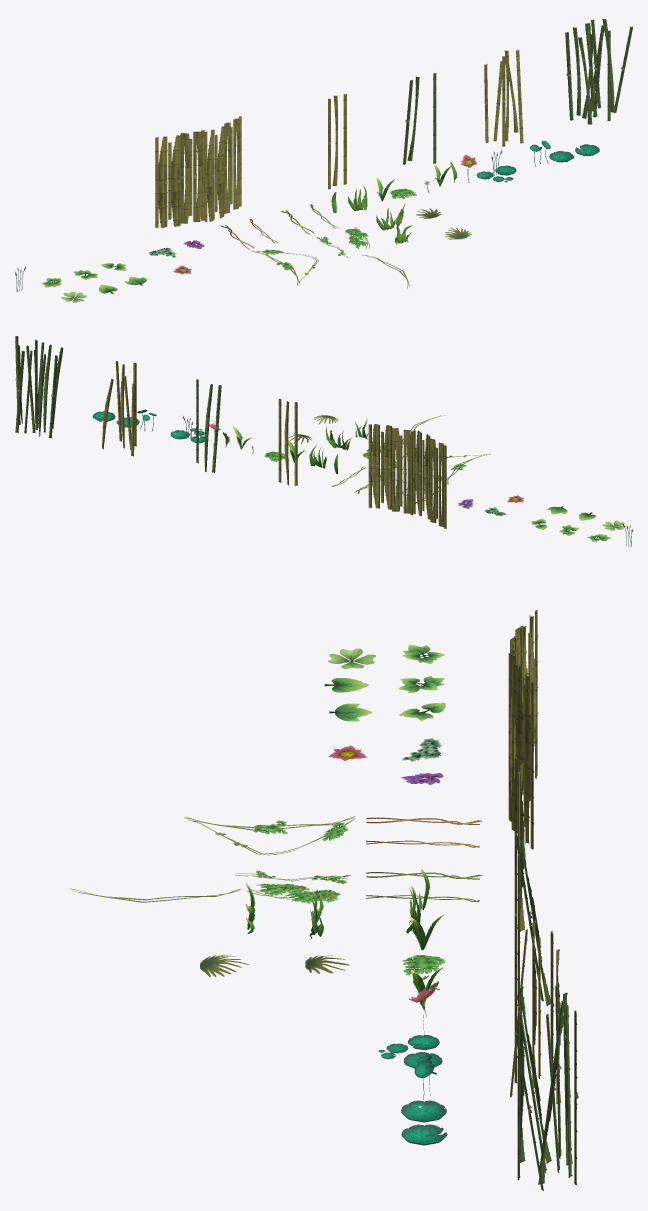
Rendered from 01_Vegetation.fbx.
The picture shows the model from 3 angles, top to bottom: view 1: azimuth 30°, elevation 25°; view 2: azimuth 150°, elevation 25°; view 3: azimuth 270°, elevation 25°; orthographic projection. The views are drawn at different scales.
Visible parts, largest first — view 1: bamboo_orange03.001, bamboostack, bamboo_orangestack, lilypad_group01; view 2: bamboo_orange03.001, bamboostack, bamboo_orangestack, lilypad_group01, bamboo01, bamboo02, bamboo_orange01, bamboo_orange03, bamboo_orange02; view 3: bamboostack, bamboo_orange03.001, bamboo_orangestack, vine_green03, lilypad_group01, vine_green04.
Part boxes in pixels (x1,y1,x2,y2): bamboo_orange03.001: (155, 116, 241, 227); bamboostack: (565, 19, 633, 124); bamboo_orangestack: (484, 50, 523, 146); lilypad_group01: (476, 150, 516, 182); bamboo_orange03.001: (368, 424, 446, 529); bamboostack: (15, 336, 63, 438); bamboo_orangestack: (102, 361, 136, 456); lilypad_group01: (170, 416, 204, 443); bamboo01: (212, 385, 221, 472); bamboo02: (204, 384, 212, 471); bamboo_orange01: (278, 398, 281, 482); bamboo_orange03: (294, 402, 297, 485); bamboo_orange02: (284, 401, 288, 485); bamboostack: (515, 984, 578, 1190); bamboo_orange03.001: (508, 610, 538, 849); bamboo_orangestack: (510, 914, 561, 1104); vine_green03: (184, 816, 355, 855); lilypad_group01: (378, 1035, 442, 1068); vine_green04: (247, 883, 340, 903).
Size of the model in its own units: 5227 by 762 by 1935.
1 material, 1 textured.
